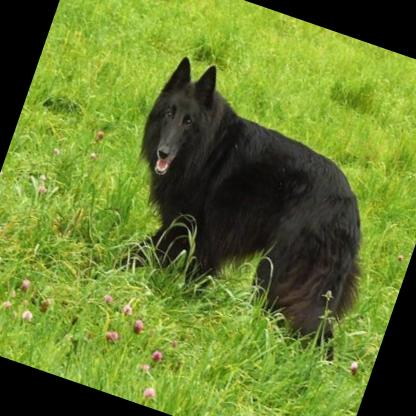groenendael: (90, 49, 410, 364)
